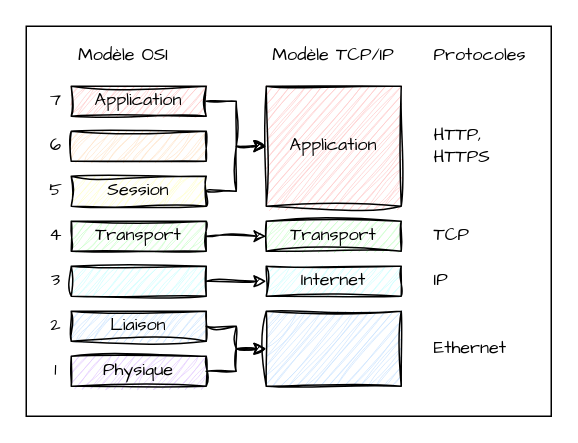
This 578x443 diagram has some shape labels left out. Each missing label, with the centre of its shape:
"Accès au réseau" belongs at point (333, 348).
"Présentation" belongs at point (138, 145).
"Réseau" belongs at point (138, 280).
